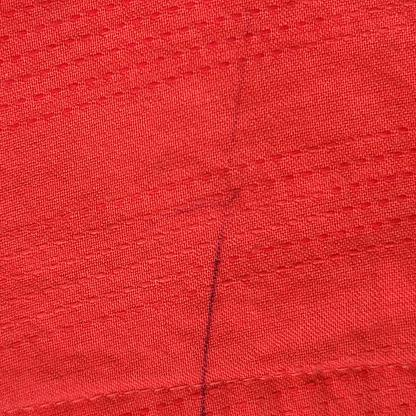spot: (196, 180, 250, 414), (226, 6, 256, 147)
